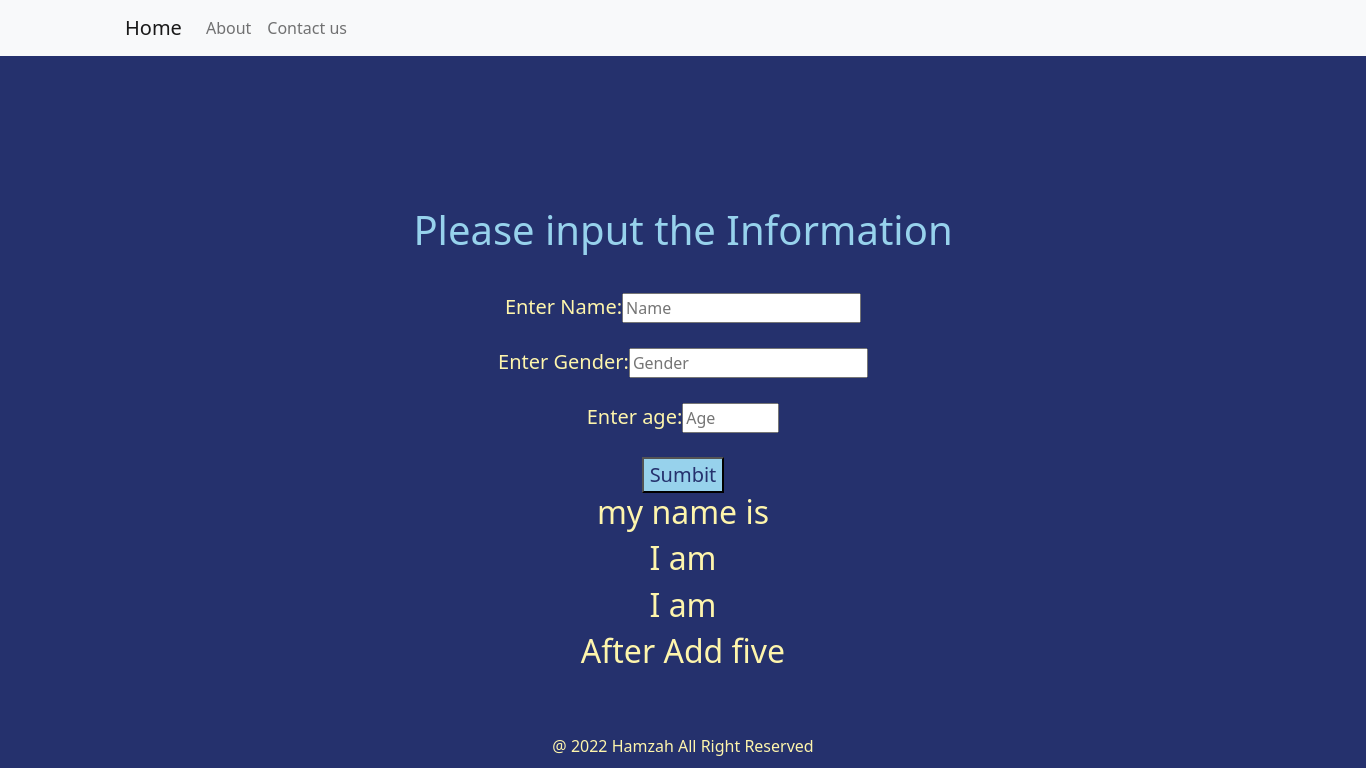
Test: change age
In the number field with test id "Age-input": (731, 418) [682,403,779,433], type "27"
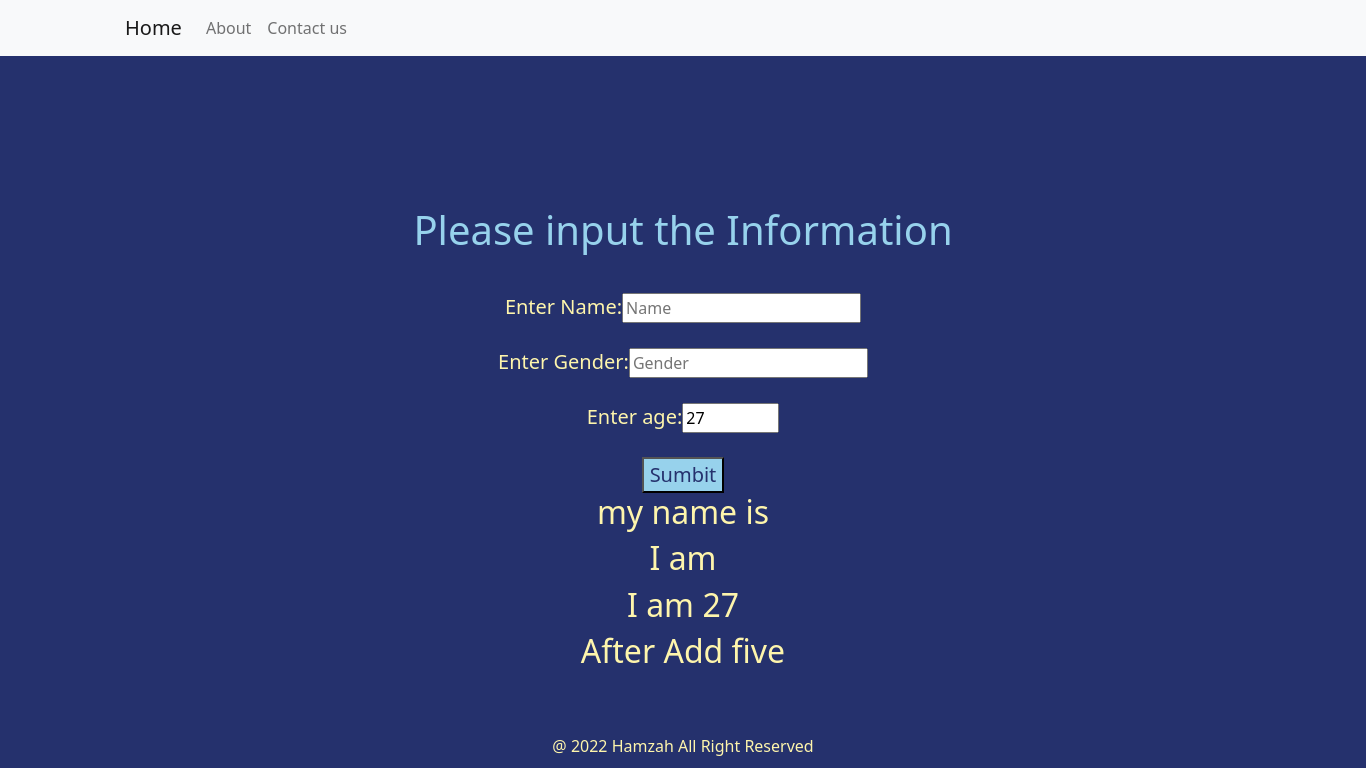
Check: the heading with test id "Age" reads "I am 27", box [627,583,739,626]
